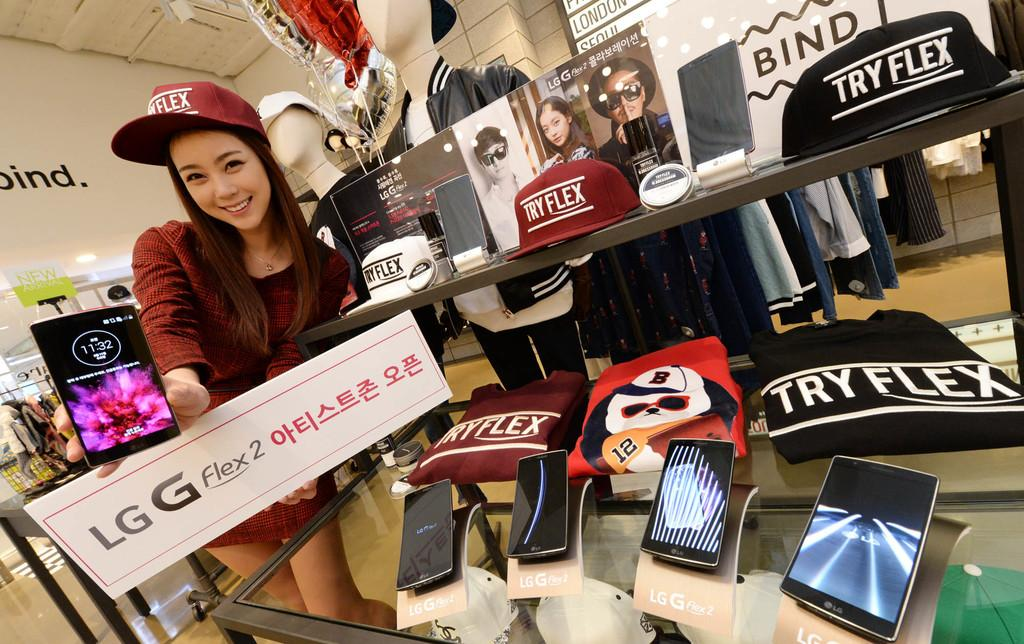Hat: (113, 83, 270, 169)
